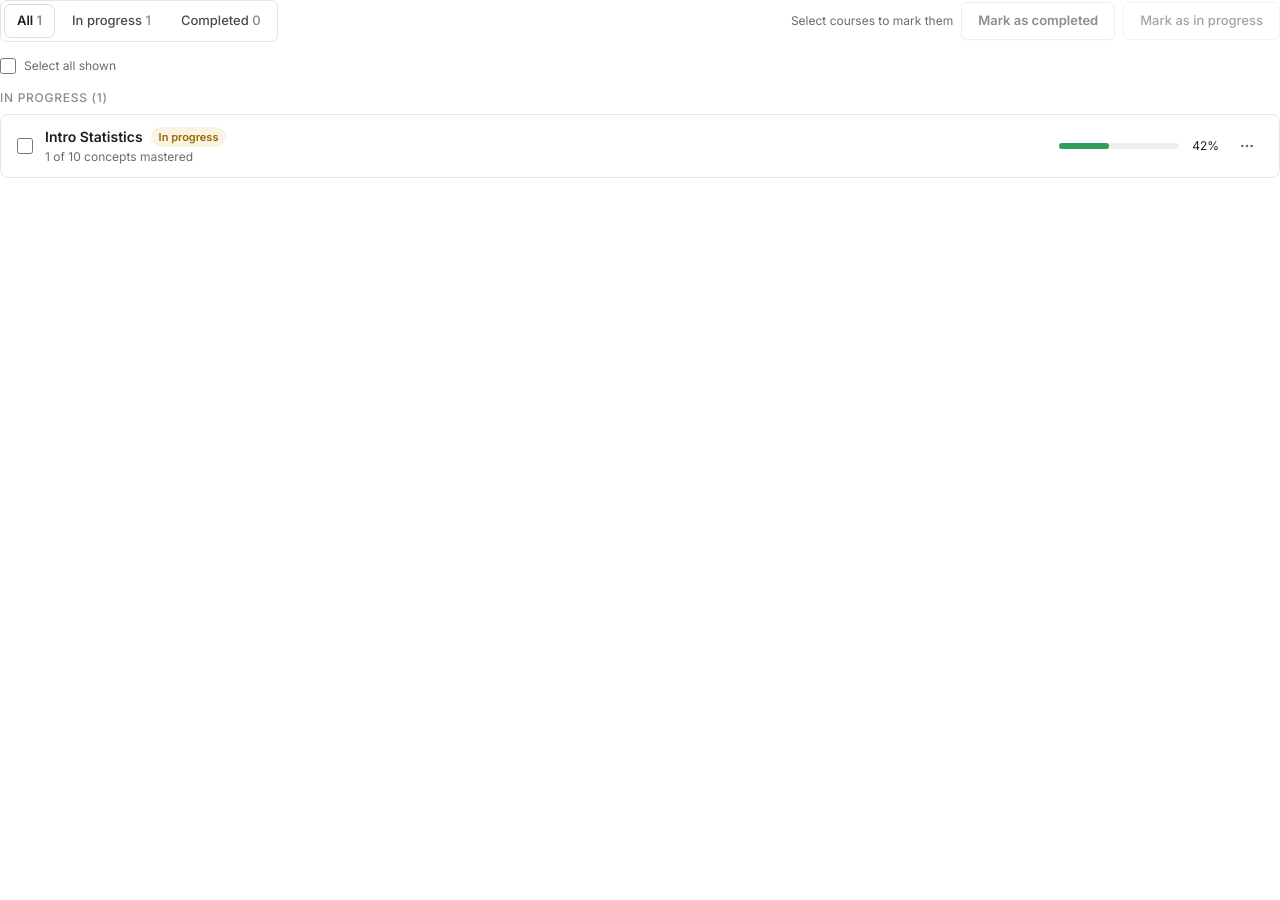
Test: deleting a course › shows why it failed and keeps the dialog open
The width and height of the screenshot is (1280, 900).
Click the button named "Actions for Intro Statistics" at (1247, 146), box [1231,130,1263,162]
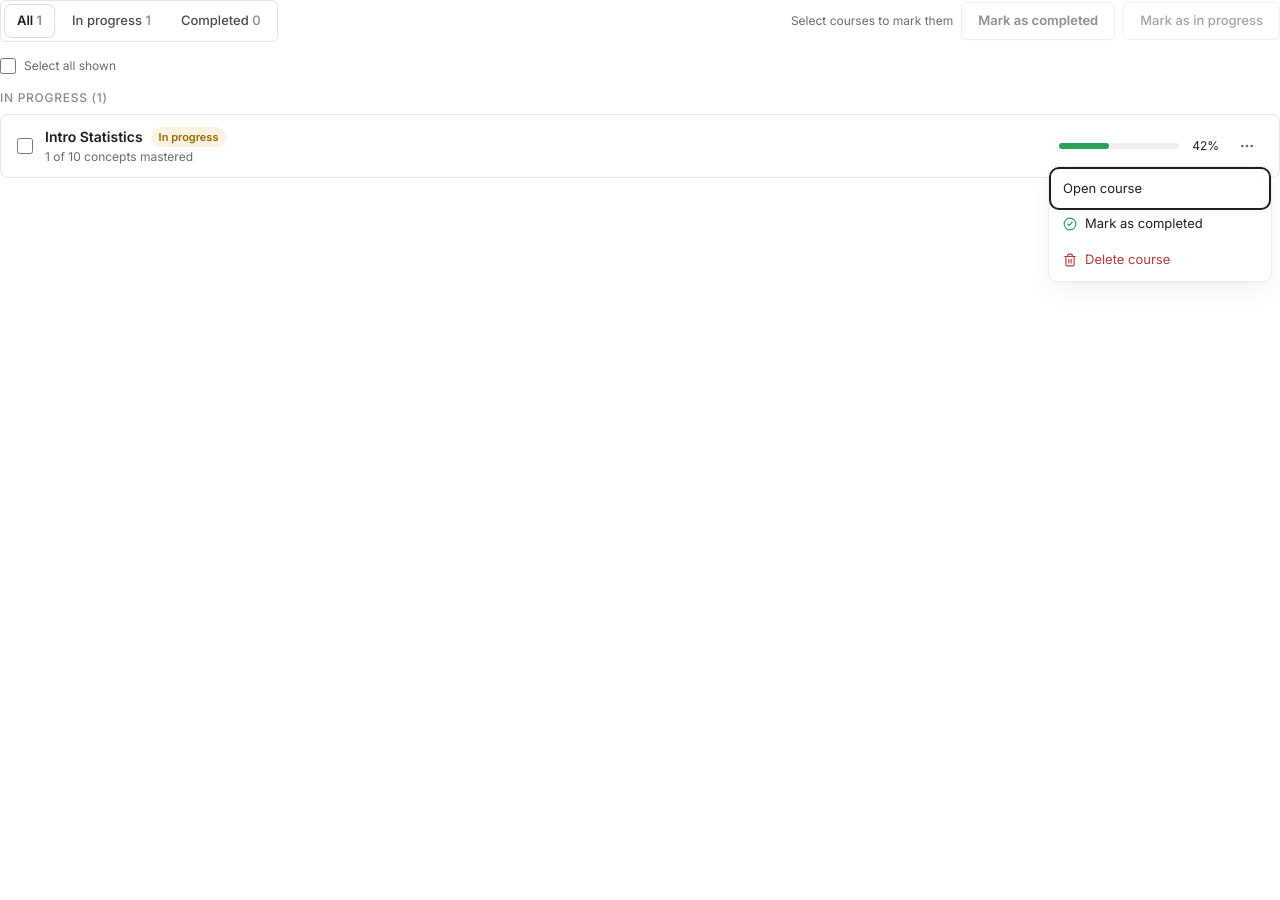
Click the menu item "Delete course" at (1160, 260), box [1053,242,1267,277]
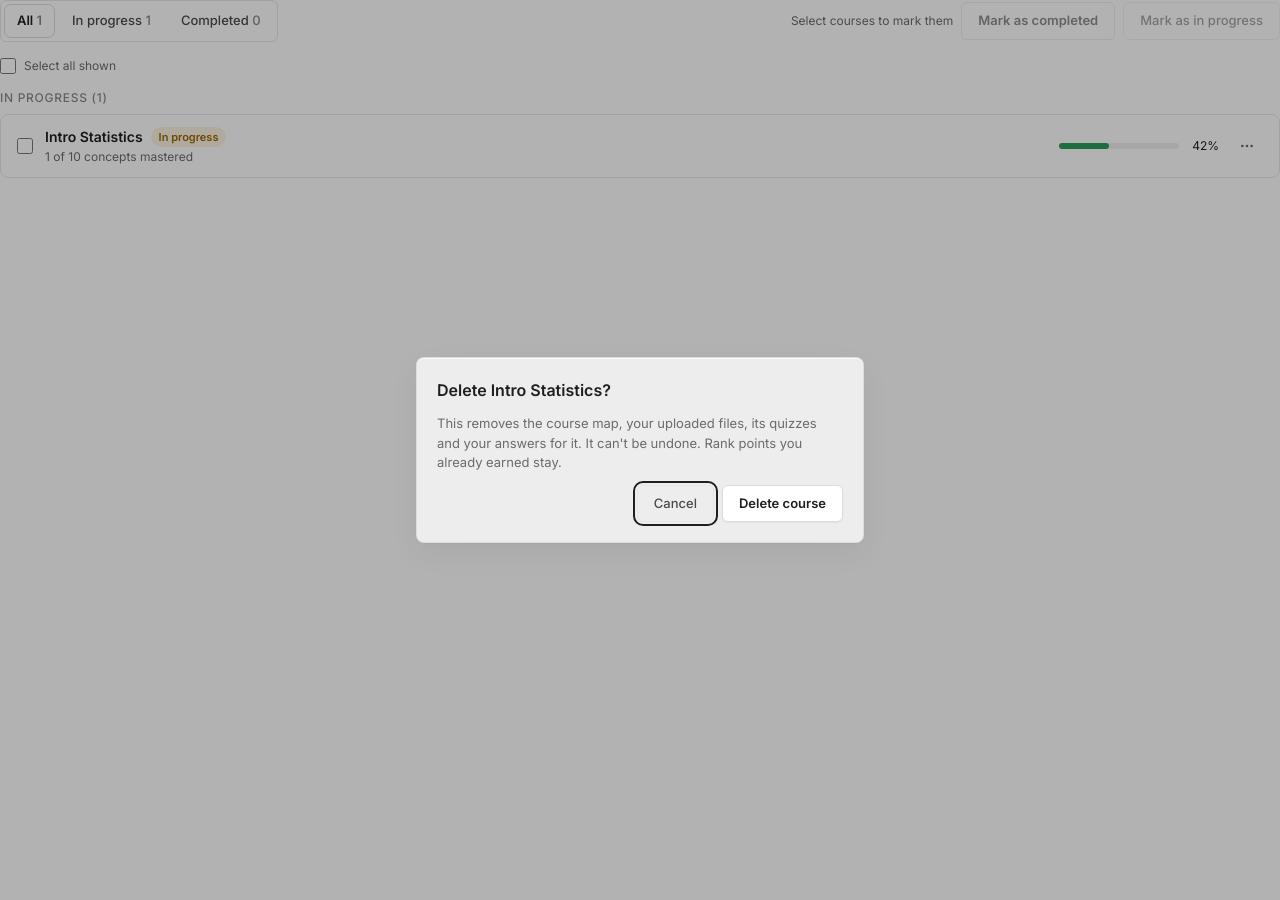
Click the button "Delete course" at (782, 503), box [722,484,843,522]
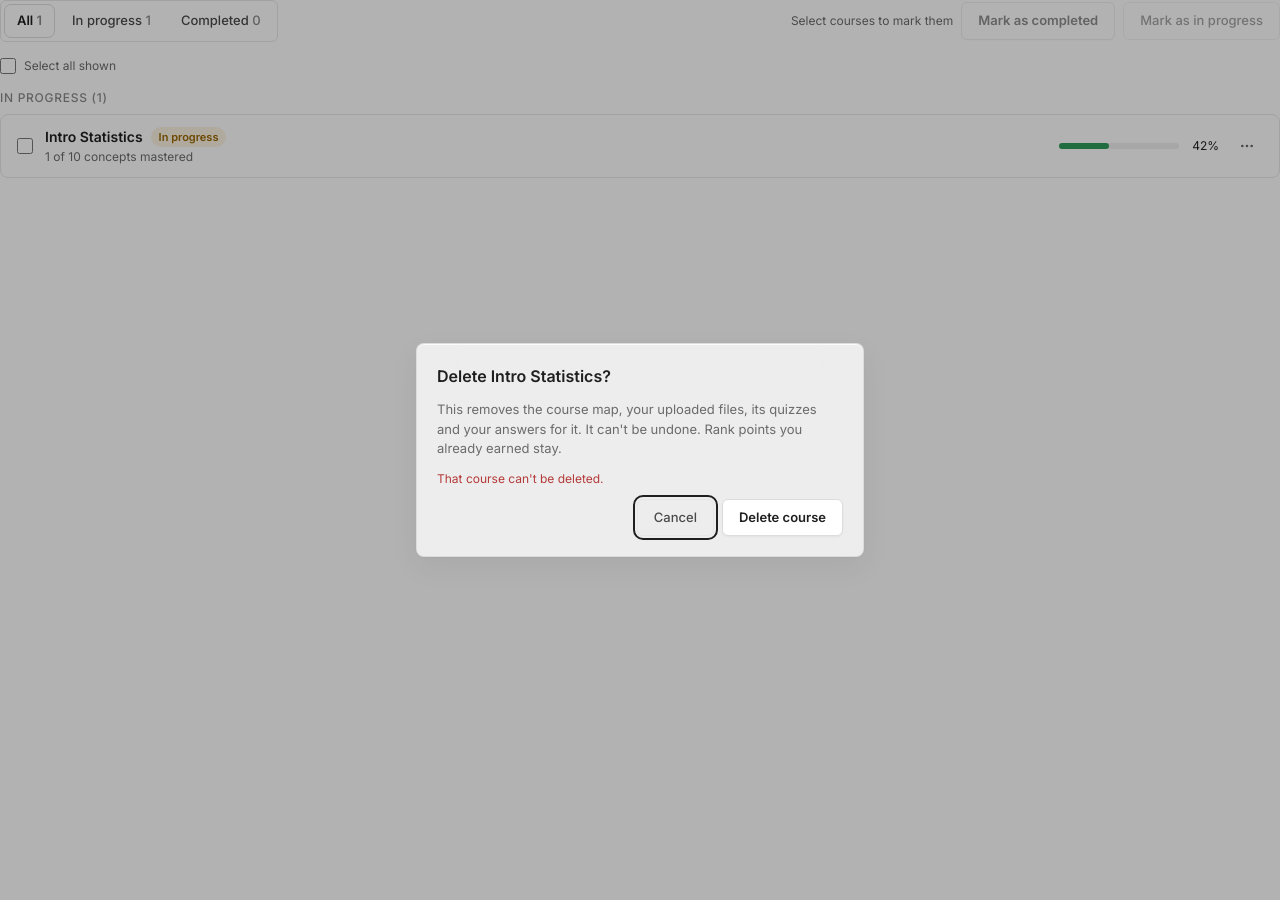
Check: the dialog is shown, box [416,343,864,557]
Check: the message reads "That course can't be deleted.", box [437,470,604,486]
